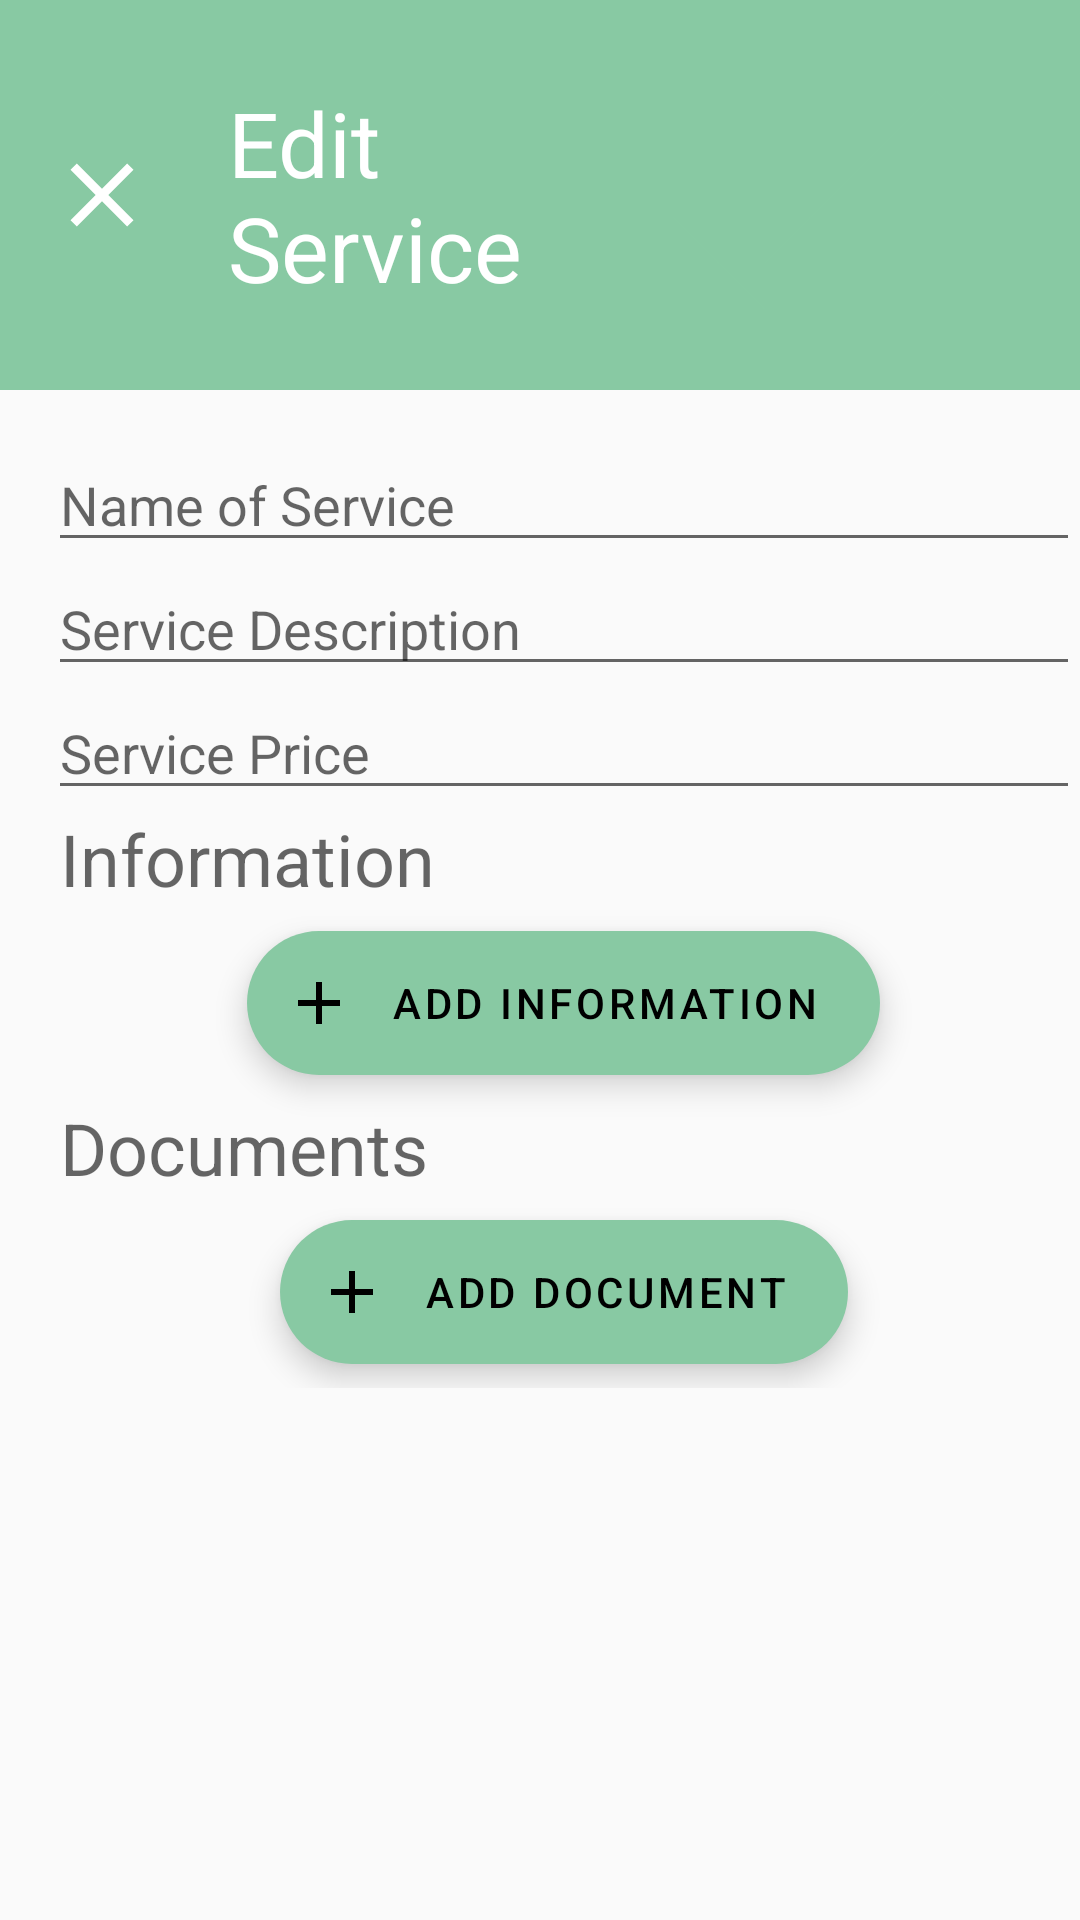

Where icons sit on this 1080x1920 app screen, as [x1, y1, x2, y2]:
close: [71, 164, 133, 226]
